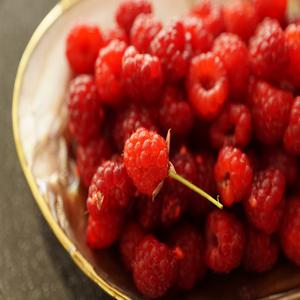raspb: (99, 12, 300, 265)
